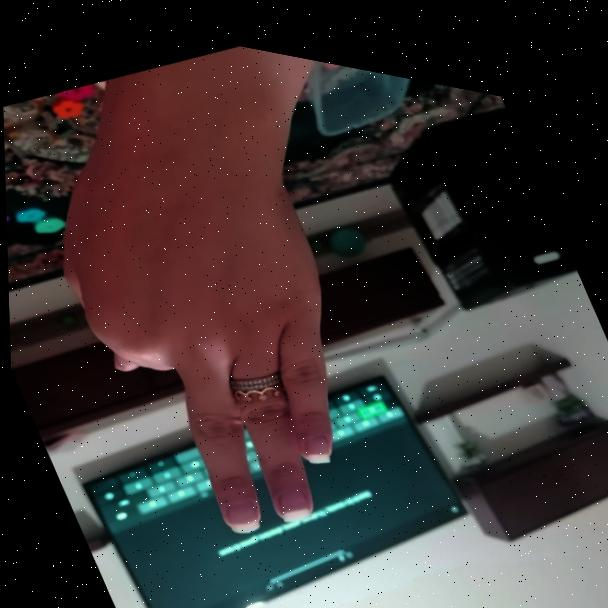five: (5, 63, 408, 585)
